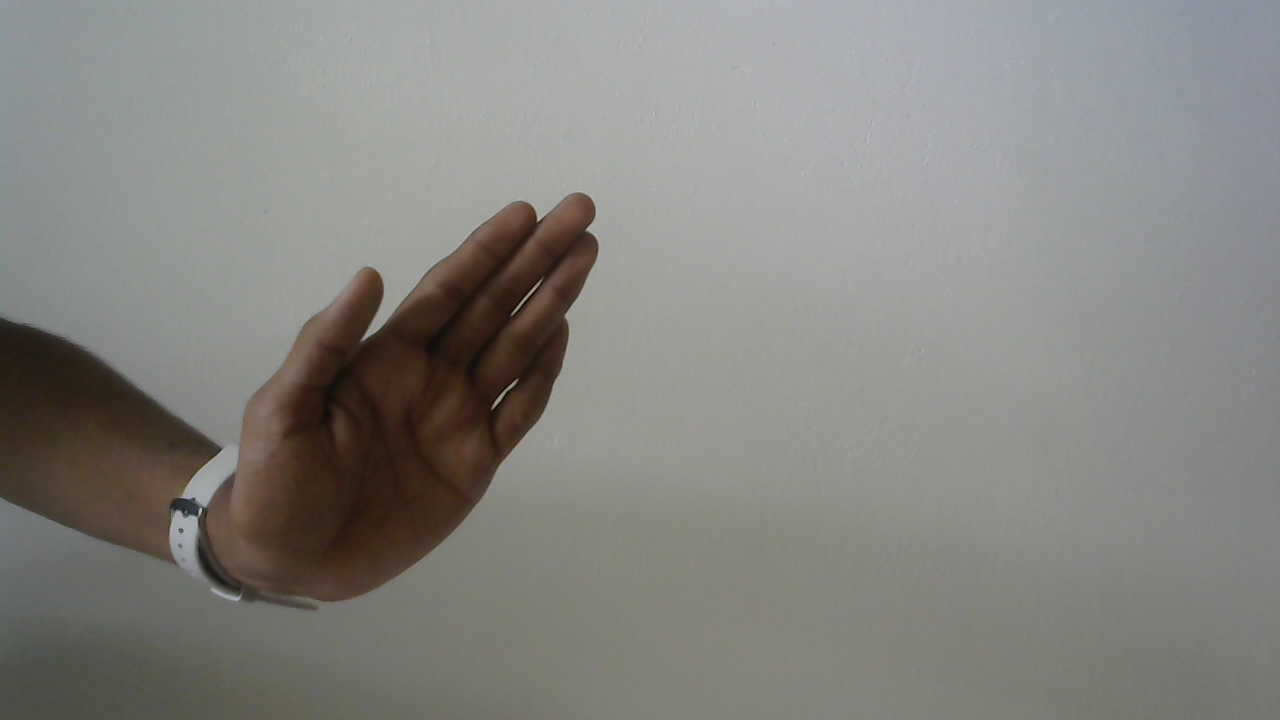hello: (226, 184, 609, 615)
